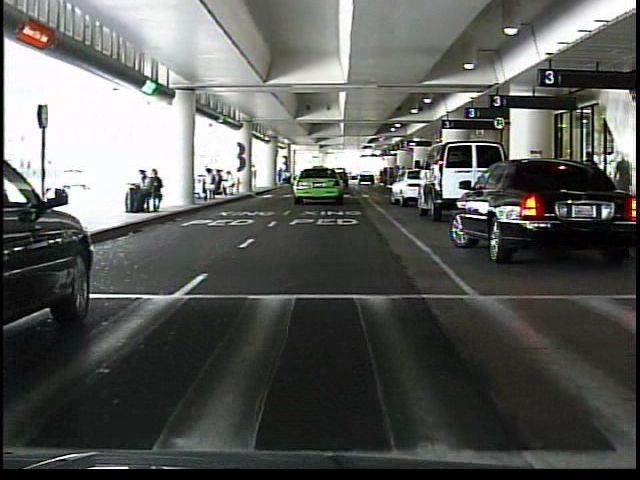person: (577, 148, 600, 210)
